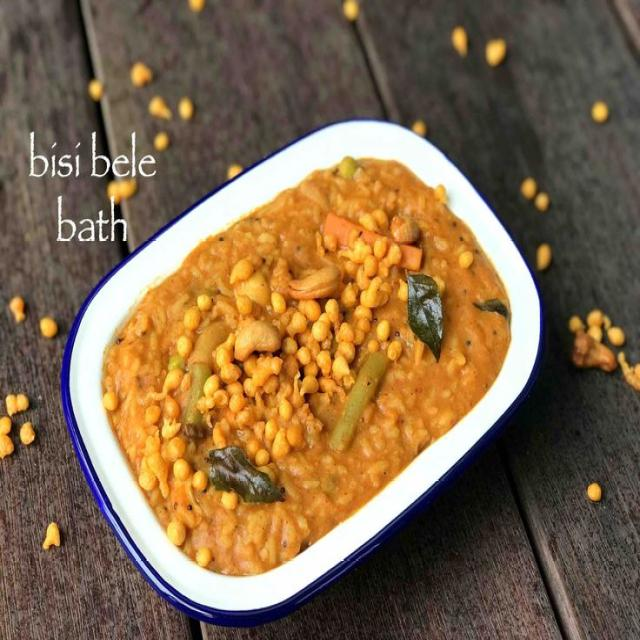bisibele bath: (48, 104, 550, 636)
